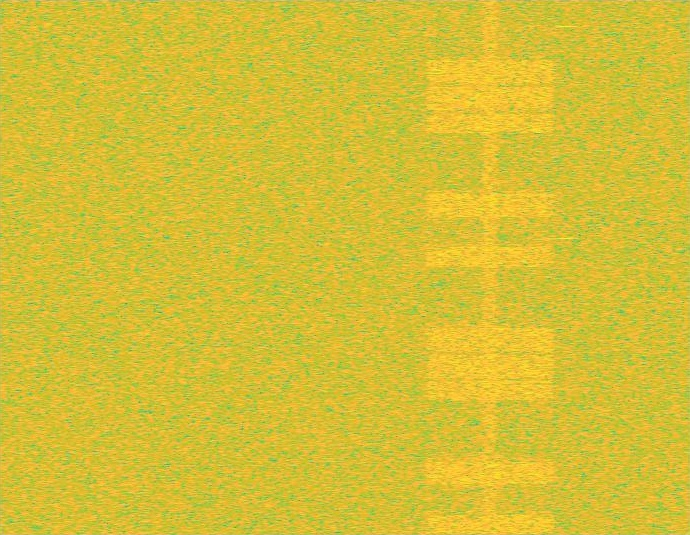DSSS: (481, 0, 499, 534)
LTE: (421, 0, 559, 534)
Radar: (559, 0, 572, 534)
